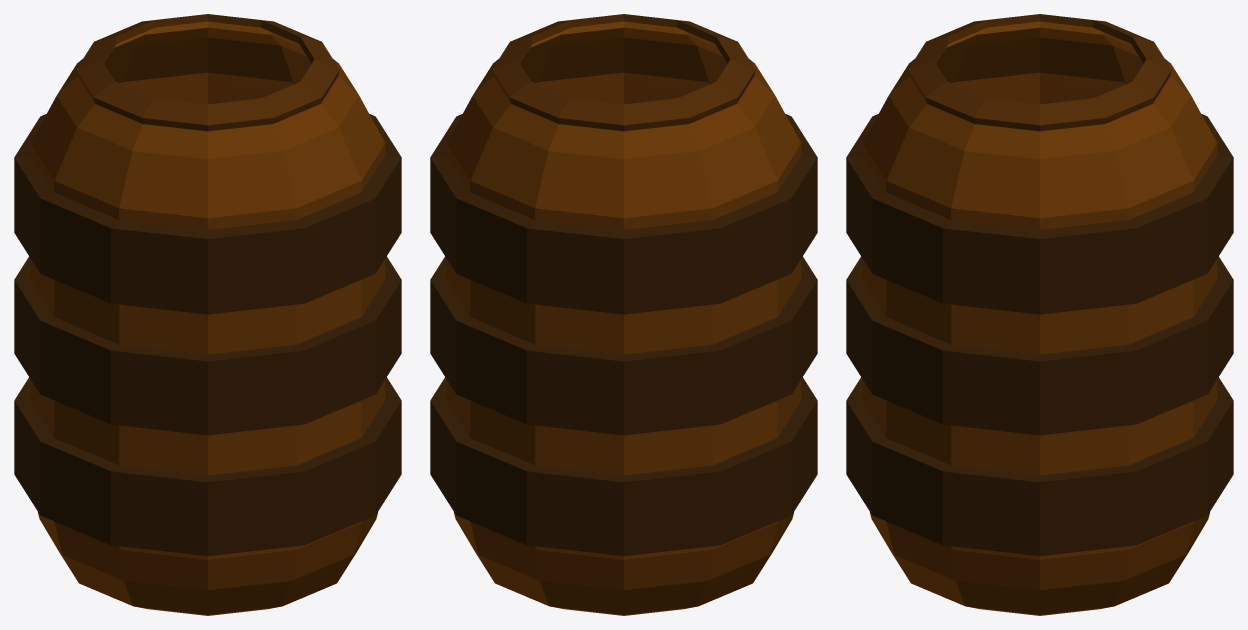
Rendered from Barrel_01_Open.fbx.
3 views of the same model, side by side, from view 1: azimuth 30°, elevation 25°; view 2: azimuth 150°, elevation 25°; view 3: azimuth 270°, elevation 25° (orthographic).
Parts seen in each view (by area): view 1: Barrel_01_Open; view 2: Barrel_01_Open; view 3: Barrel_01_Open.
Part boxes in pixels (x1,y1,x2,y2): Barrel_01_Open: (14,14,401,615); Barrel_01_Open: (430,14,817,615); Barrel_01_Open: (846,14,1233,615).
Bounding box in the file's own units: 63.25 × 91.2 × 63.25.
